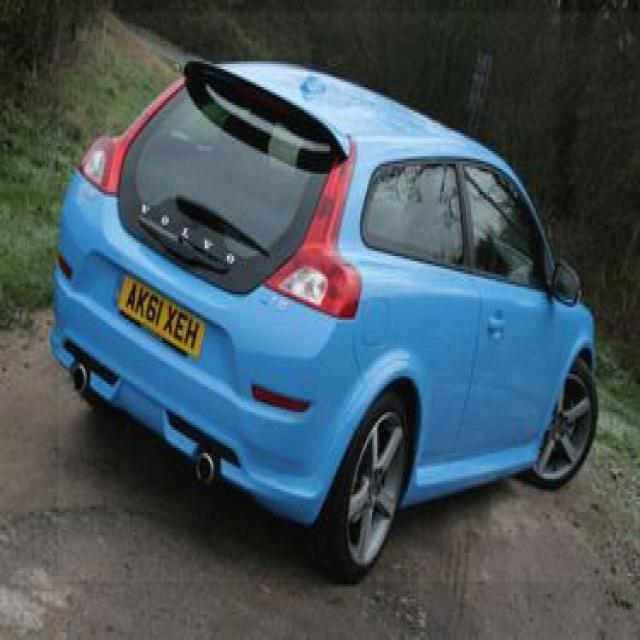Car: (58, 12, 640, 582)
